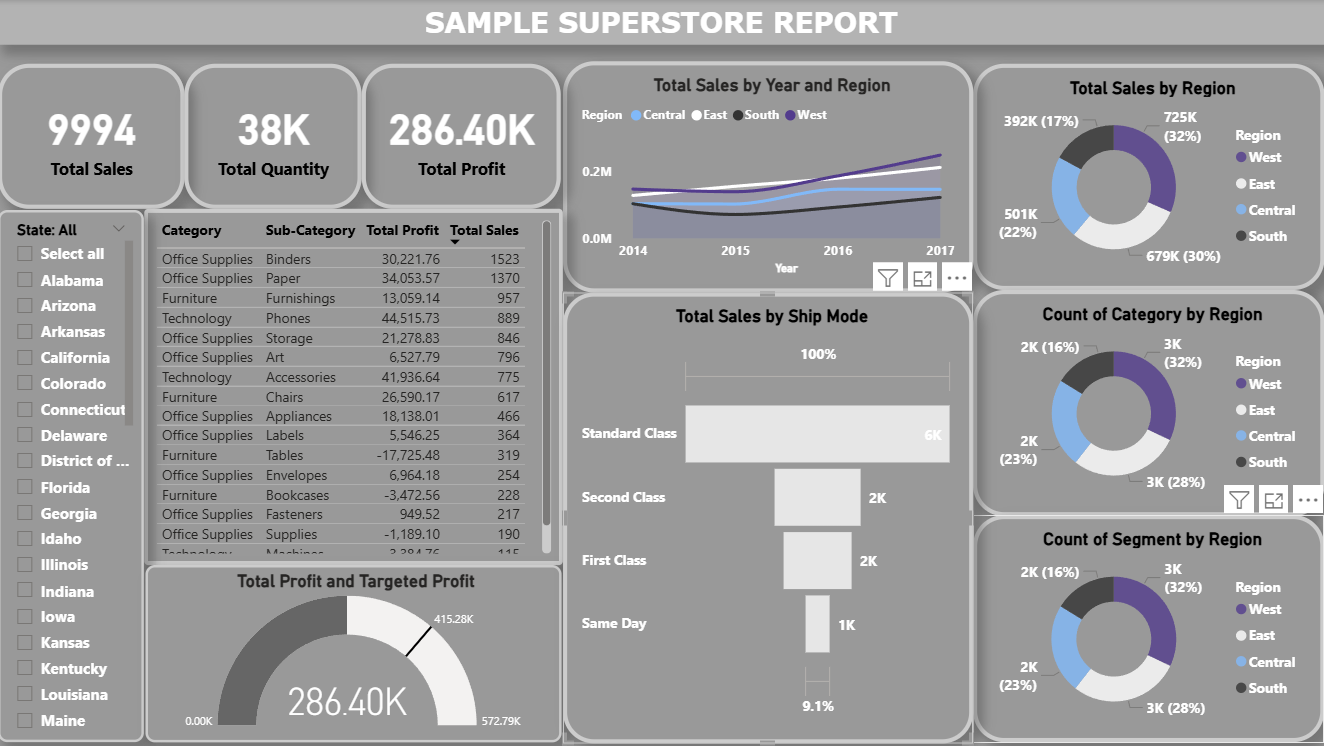

What the dashboard file says about the page in this screenshot:
{"tool":"powerbi","page":{"name":"sample superstore report","canvas":[1280,720],"ordinal":0},"visuals":[{"type":"textbox","box":[0,0,1280,43.4],"z":0},{"type":"donutChart","title":"Total Sales by Region","fields":{"Category":["Orders.Region"],"Y":["Sum(Orders.Sales)"]},"box":[941,61.5,339,218.4],"z":1000},{"type":"donutChart","fields":{"Category":["Orders.Region"],"Y":["CountNonNull(Orders.Category)"]},"box":[941,279.9,339,218.4],"z":2000},{"type":"donutChart","fields":{"Category":["Orders.Region"],"Y":["CountNonNull(Orders.Segment)"]},"box":[941,497.1,339,219.6],"z":3000},{"type":"lineChart","title":"Total Sales by Year and Region","fields":{"Category":["Orders.Order Date.Variation.Date Hierarchy.Year","Orders.Order Date.Variation.Date Hierarchy.Quarter","Orders.Order Date.Variation.Date Hierarchy.Month","Orders.Order Date.Variation.Date Hierarchy.Day"],"Y":["Sum(Orders.Sales)"],"Series":["Orders.Region"]},"box":[545.3,59.1,395.7,223.2],"z":4000},{"type":"funnel","title":"Total Sales by Sub-Category","fields":{"Y":["Sum(Orders.Sales)"],"Category":["Orders.Sub-Category"]},"box":[545.3,282.3,395.7,435.5],"z":5000},{"type":"card","fields":{"Values":["CountNonNull(Orders.Sales)"]},"box":[0,61.5,179.8,139.9],"z":6000},{"type":"card","fields":{"Values":["Sum(Orders.Quantity)"]},"box":[179.8,61.5,171.3,139.9],"z":7000},{"type":"card","fields":{"Values":["Sum(Orders.Profit)"]},"box":[351.1,61.5,191.8,139.9],"z":8000},{"type":"tableEx","fields":{"Values":["Orders.Sub-Category","Orders.Category","Sum(Orders.Profit)","CountNonNull(Orders.Sales)"]},"box":[141.2,201.5,404.2,343.8],"z":9000},{"type":"slicer","fields":{"Values":["Orders.State"]},"box":[0,202.7,141.2,513.9],"z":10000},{"type":"gauge","fields":{"Y":["Sum(Orders.Profit)"],"TargetValue":["Orders.Measure"]},"box":[147.2,545.3,395.7,171.3],"z":11000}]}

Visuals, with their boxes in screenshot pixels (x1, y1, x2, y2), scaled from the page's 1280x720 canvas onto the 1324x746 screenshot:
textbox: x1=0, y1=0, x2=1323, y2=45
"Total Sales by Region" donutChart: x1=973, y1=64, x2=1323, y2=290
donutChart - Orders.Region x CountNonNull(Orders.Category): x1=973, y1=290, x2=1323, y2=516
donutChart - Orders.Region x CountNonNull(Orders.Segment): x1=973, y1=515, x2=1323, y2=743
"Total Sales by Year and Region" lineChart: x1=564, y1=61, x2=973, y2=292
"Total Sales by Sub-Category" funnel: x1=564, y1=292, x2=973, y2=744
card - CountNonNull(Orders.Sales): x1=0, y1=64, x2=186, y2=209
card - Sum(Orders.Quantity): x1=186, y1=64, x2=363, y2=209
card - Sum(Orders.Profit): x1=363, y1=64, x2=562, y2=209
tableEx - Orders.Sub-Category x Orders.Category: x1=146, y1=209, x2=564, y2=565
slicer - Orders.State: x1=0, y1=210, x2=146, y2=742
gauge - Sum(Orders.Profit) x Orders.Measure: x1=152, y1=565, x2=562, y2=742
